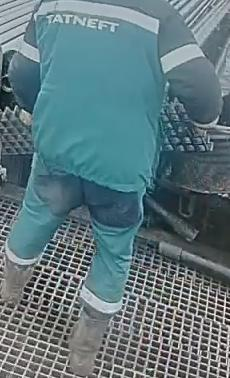vest: (29, 0, 168, 192)
